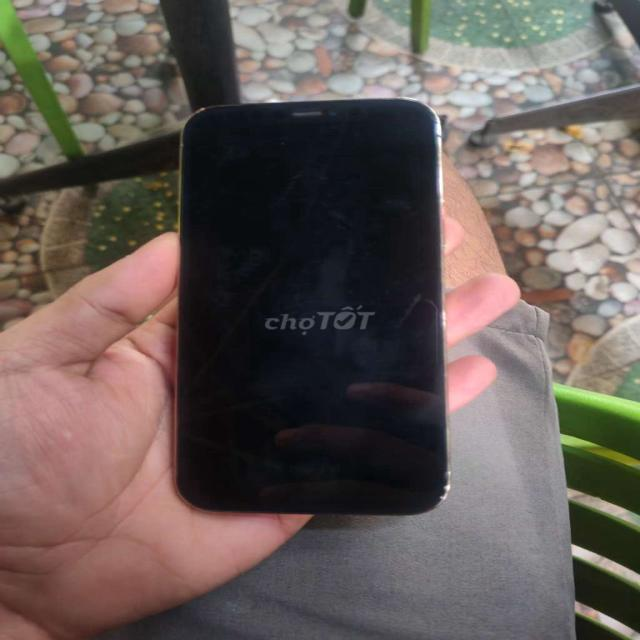gen_12_13: (170, 92, 451, 520)
